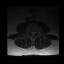CCS_normal: (32, 29, 34, 37)
LFS_normal: (35, 30, 37, 34)
LLS_normal: (34, 30, 35, 35)
RFS_normal: (29, 30, 31, 35)
RLS_normal: (30, 30, 32, 35)
